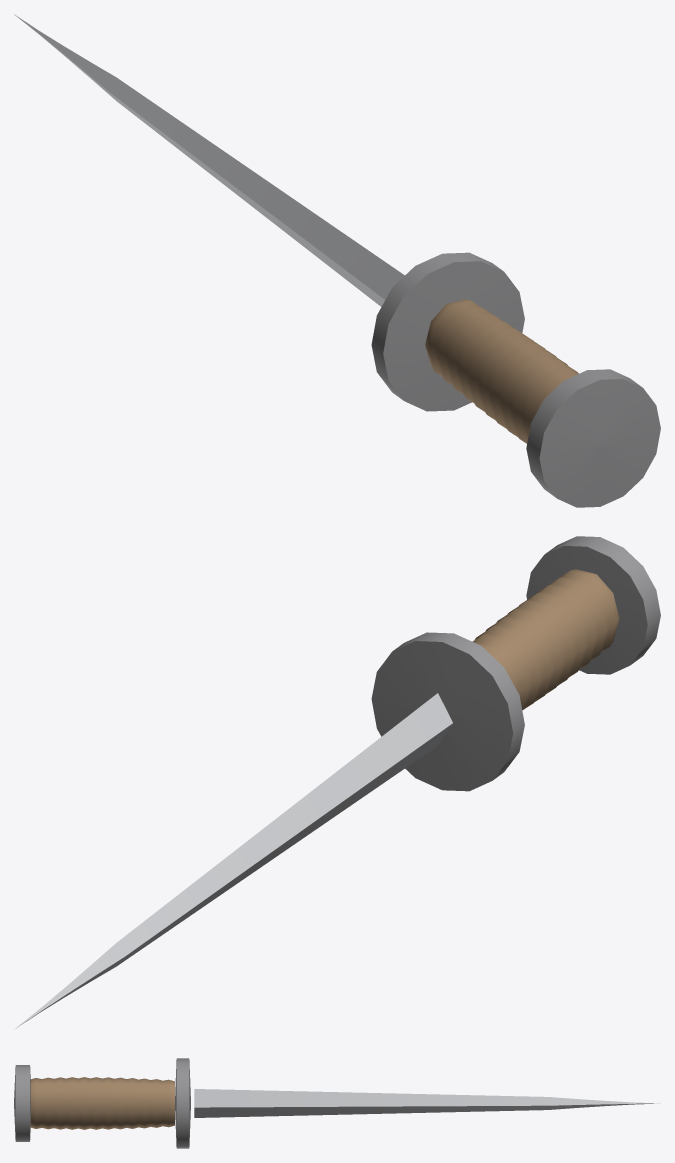
File: rondel_dagger.glb
3 renders of one model, top to bottom at view 1: azimuth 30°, elevation 25°; view 2: azimuth 150°, elevation 25°; view 3: azimuth 270°, elevation 25°, orthographic. The views are drawn at different scales.
Parts seen in each view (by area): view 1: rondel_dagger; view 2: rondel_dagger; view 3: rondel_dagger.
Boxes of the visible parts, x1,y1,x2,y2 form: rondel_dagger: (14, 14, 660, 507); rondel_dagger: (14, 536, 660, 1029); rondel_dagger: (14, 1058, 660, 1148).
Bounding box in the file's own units: 0.056 × 0.056 × 0.402.
